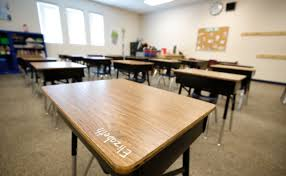desk: (39, 76, 218, 172), (170, 64, 238, 141), (109, 56, 154, 83), (28, 60, 85, 80)
